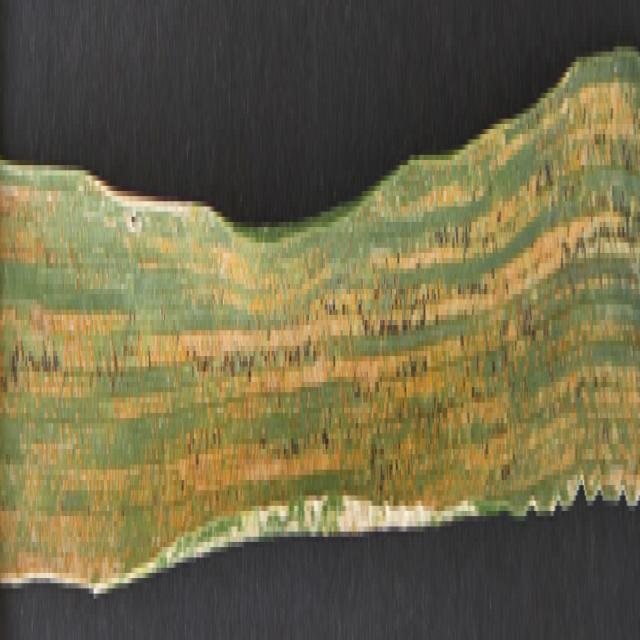leaf rust: (0, 93, 640, 604)
